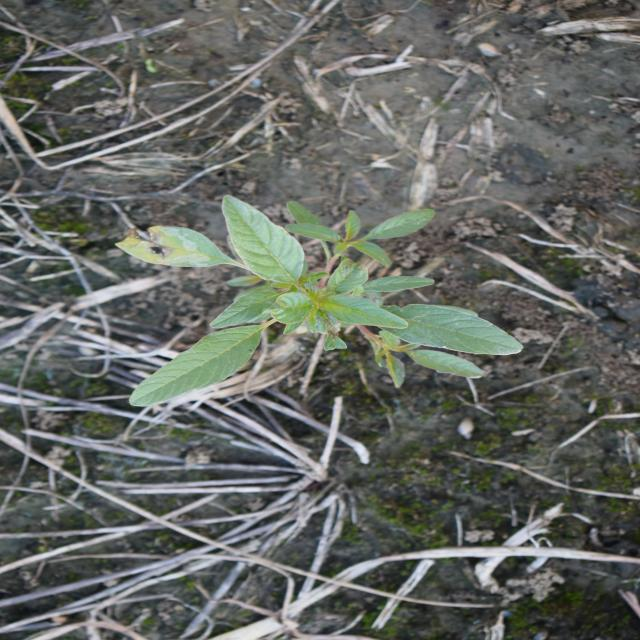Waterhemp: (109, 193, 527, 411)
